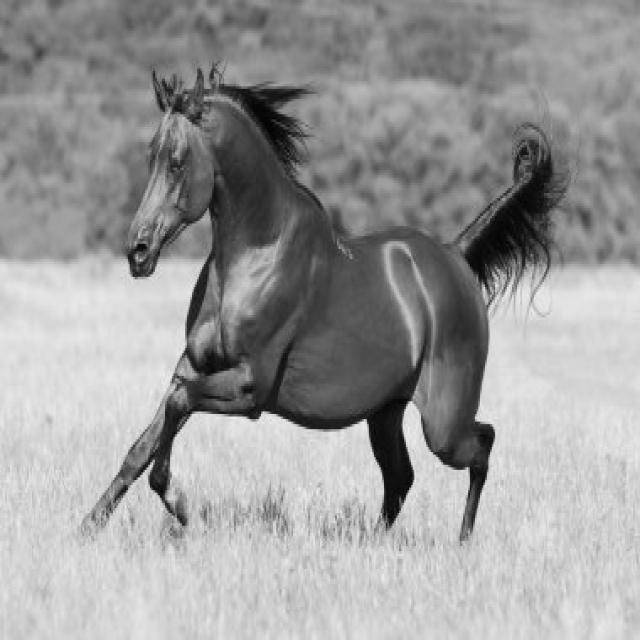Animal: (63, 71, 564, 536)
